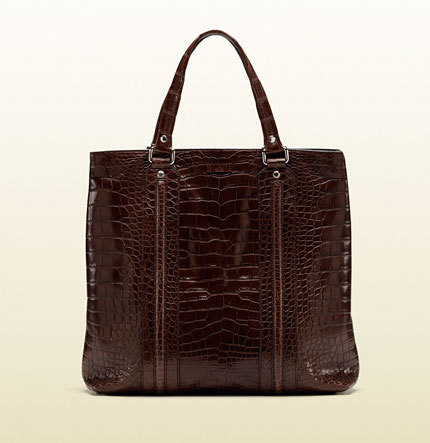cartera: (78, 28, 365, 399)
cuero: (82, 146, 363, 396)
